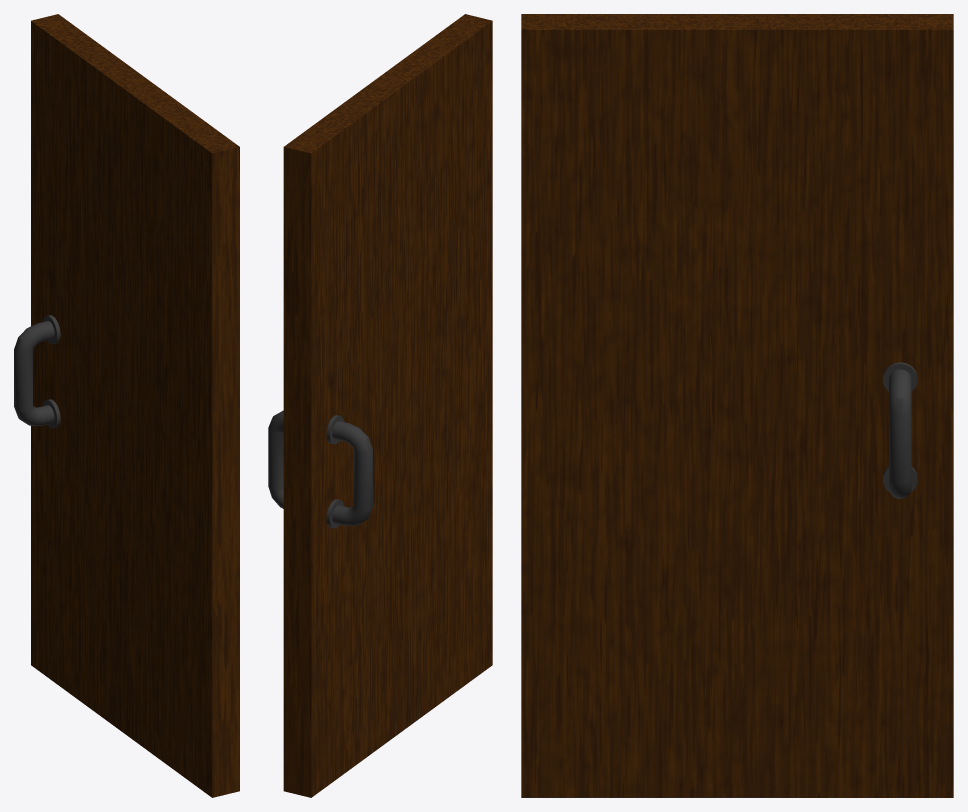
File: door.fbx
3 renders of one model, left to right at view 1: azimuth 30°, elevation 25°; view 2: azimuth 150°, elevation 25°; view 3: azimuth 270°, elevation 25°, orthographic. The views are drawn at different scales.
Parts seen in each view (by area): view 1: Cube.014; view 2: Cube.014; view 3: Cube.014.
Boxes of the visible parts, x1,y1,x2,y2 form: Cube.014: (14, 14, 239, 797); Cube.014: (268, 14, 492, 797); Cube.014: (521, 14, 953, 797).
Size of the model in its own units: 37.57 by 226 by 116.
1 material, 1 textured.
